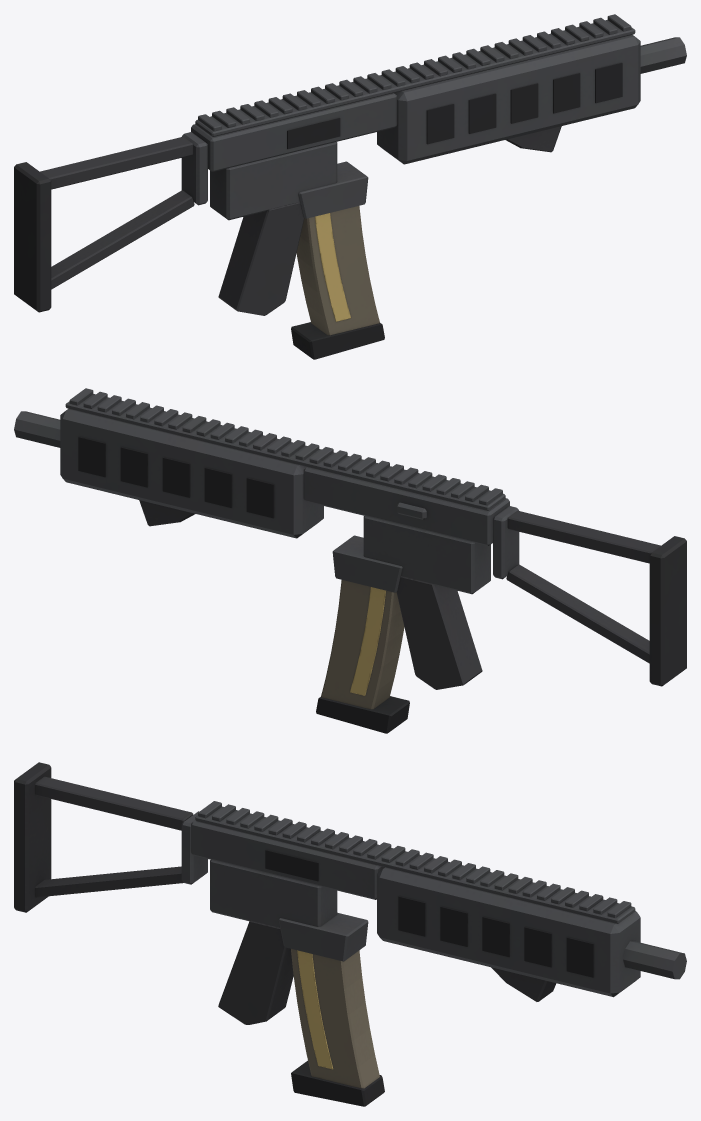
The model's file is AT_MCX.fbx.
3 renders of one model, top to bottom at view 1: azimuth 30°, elevation 25°; view 2: azimuth 150°, elevation 25°; view 3: azimuth 330°, elevation 25°, orthographic.
Visible parts, largest first — view 1: AT_MCX; view 2: AT_MCX; view 3: AT_MCX.
Boxes of the visible parts, left/top/right/bottom form: AT_MCX: left=14, top=14, right=686, bottom=359; AT_MCX: left=14, top=388, right=686, bottom=733; AT_MCX: left=14, top=762, right=686, bottom=1106.
Size of the model in its own units: 0.448 by 0.167 by 0.0345.
1 material, 1 textured.
